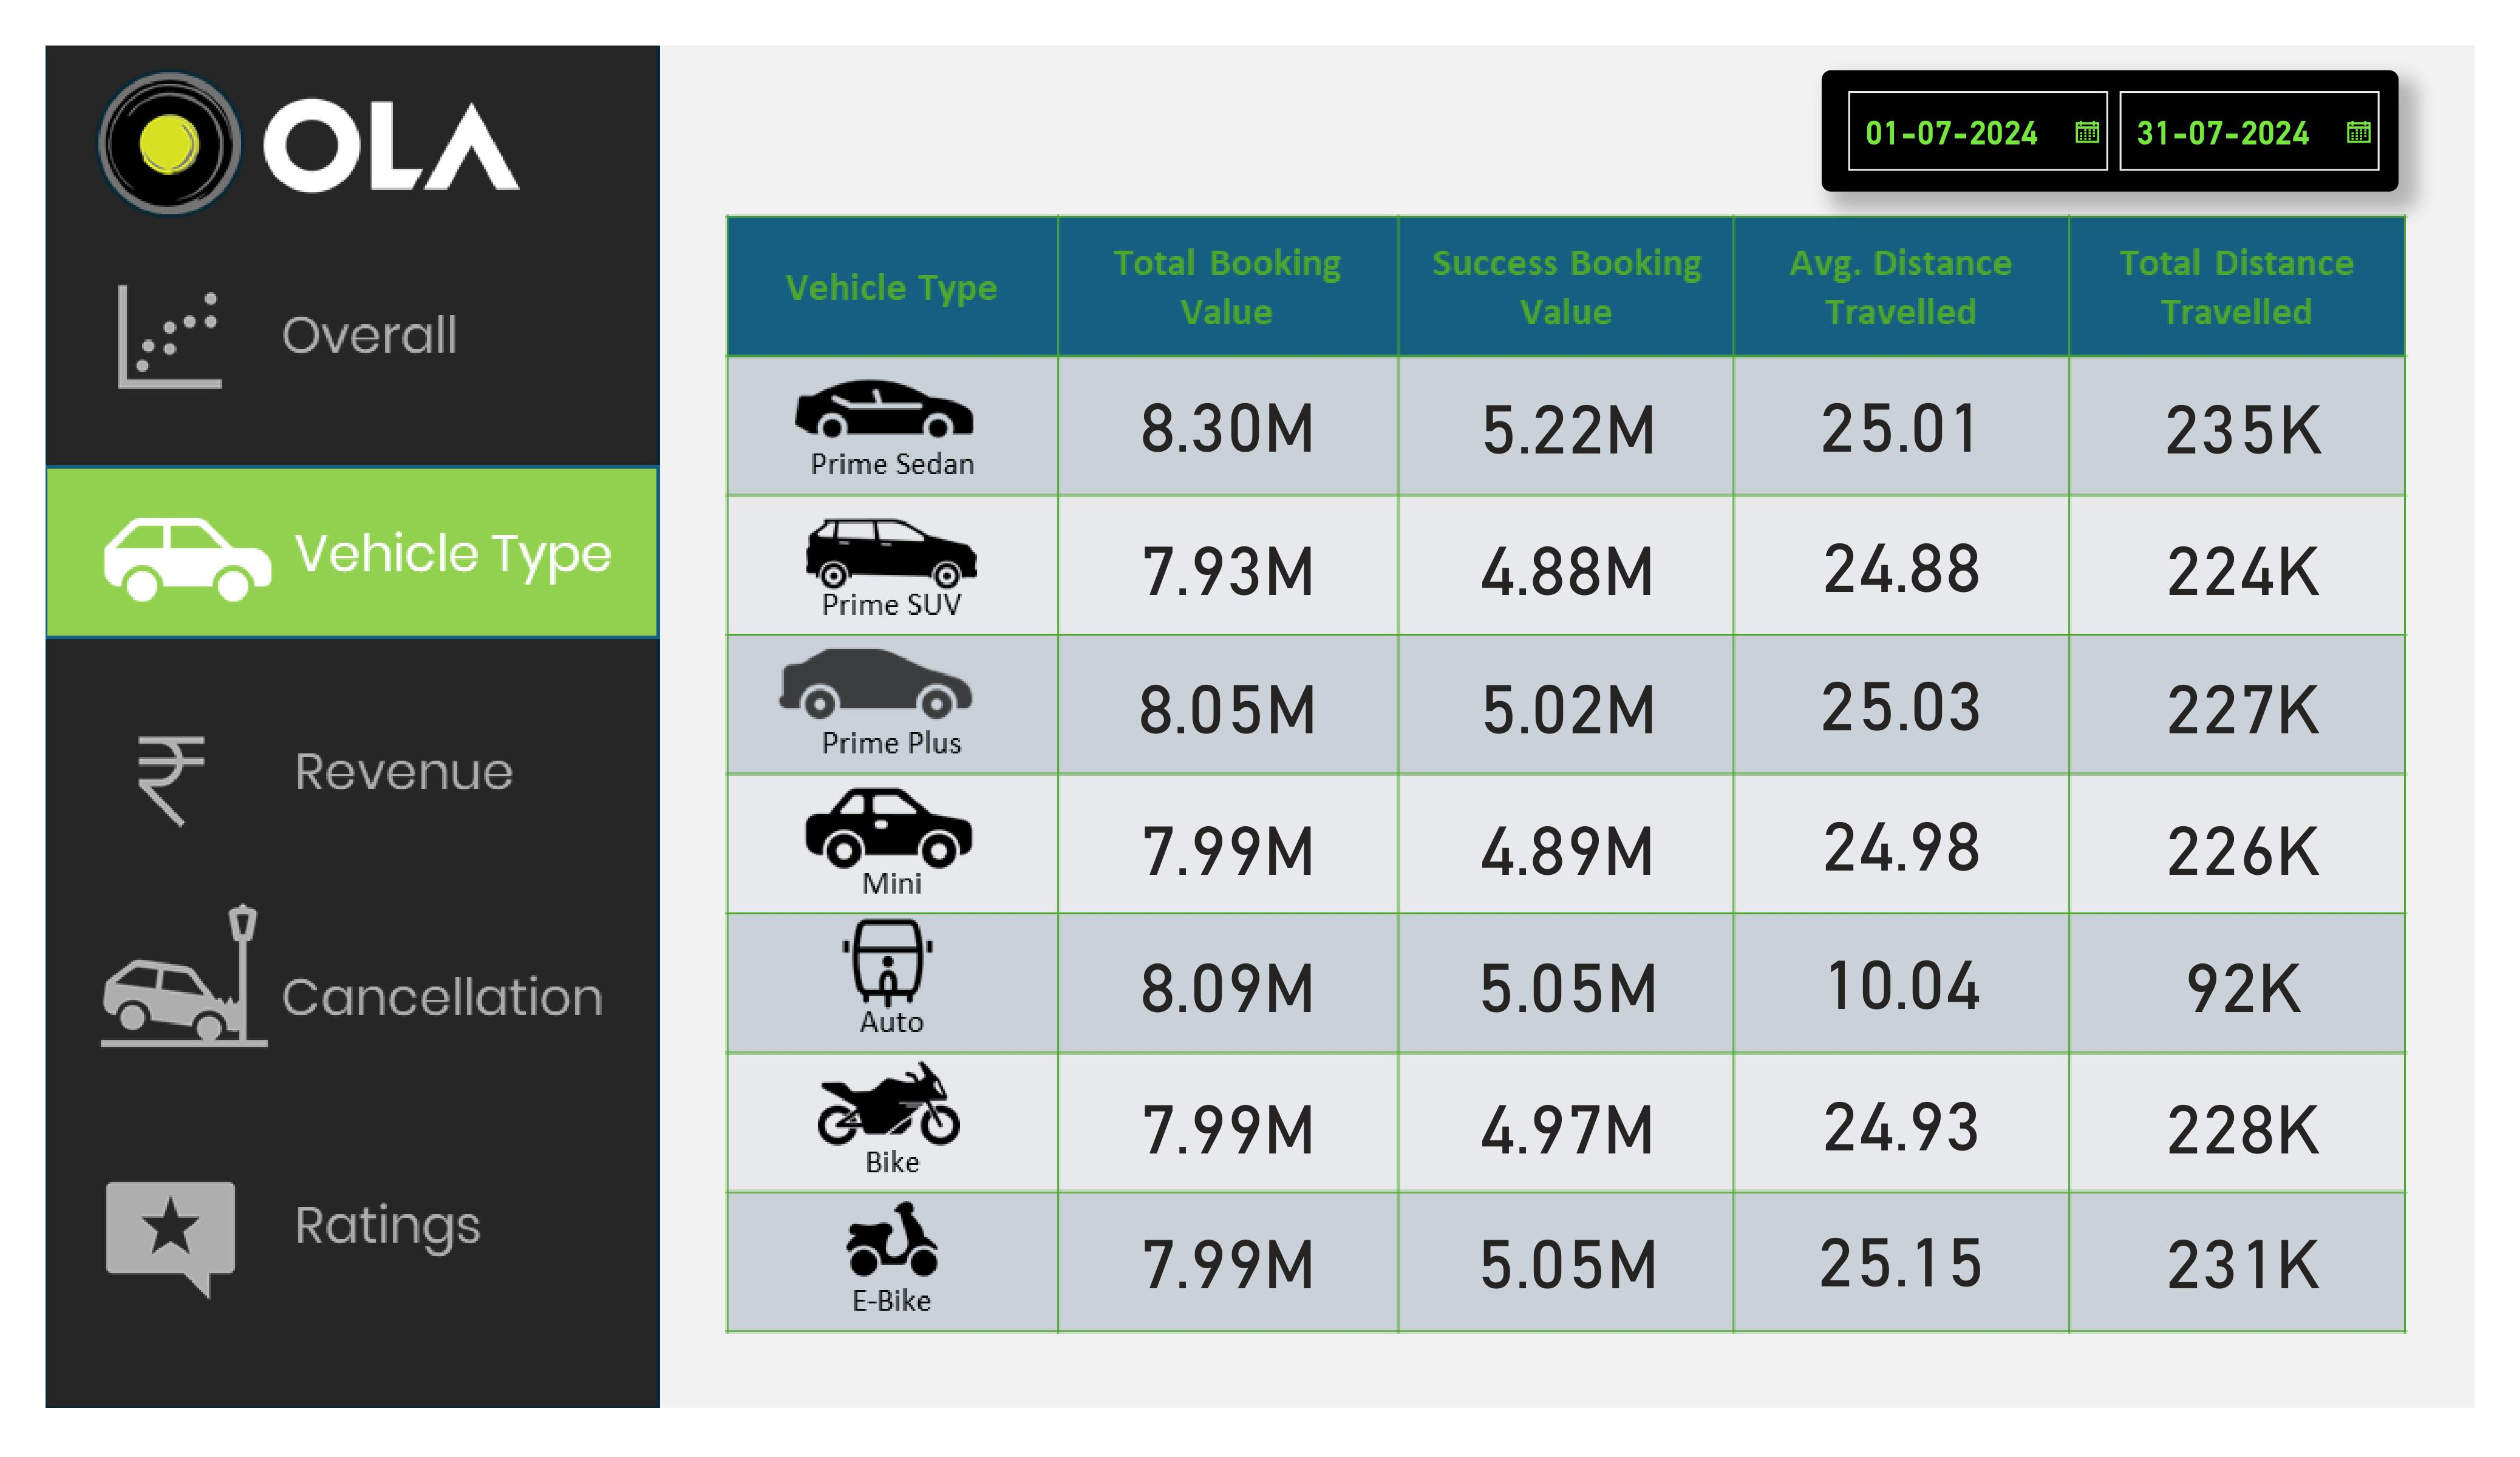

What the dashboard file says about the page in this screenshot:
{"tool":"powerbi","page":{"name":"Vehicle Type ","canvas":[1280,720],"ordinal":1},"visuals":[{"type":"actionButton","box":[0,342.9,325.7,90],"z":0},{"type":"actionButton","box":[0,445.7,325.7,90],"z":1000},{"type":"actionButton","box":[0,581.4,325.7,90],"z":2000},{"type":"actionButton","box":[0,108.6,325.7,90],"z":3000},{"type":"card","fields":{"Values":["Sum(public ola_bookings.booking_value)"]},"box":[537.1,165.7,171.4,64.3],"z":4000},{"type":"card","fields":{"Values":["Sum(public ola_bookings.booking_value)"]},"box":[537.1,241.4,171.4,64.3],"z":5000},{"type":"card","fields":{"Values":["Sum(public ola_bookings.booking_value)"]},"box":[537.1,314.3,171.4,64.3],"z":6000},{"type":"card","fields":{"Values":["Sum(public ola_bookings.booking_value)"]},"box":[537.1,388.6,171.4,64.3],"z":7000},{"type":"card","fields":{"Values":["Sum(public ola_bookings.booking_value)"]},"box":[537.1,461.4,171.4,64.3],"z":8000},{"type":"card","fields":{"Values":["Sum(public ola_bookings.booking_value)"]},"box":[537.1,535.7,171.4,64.3],"z":9000},{"type":"card","fields":{"Values":["Sum(public ola_bookings.booking_value)"]},"box":[537.1,607.1,171.4,64.3],"z":10000},{"type":"card","fields":{"Values":["Sum(public ola_bookings.booking_value)"]},"box":[720,167.1,164.3,64.3],"z":11000},{"type":"card","fields":{"Values":["Sum(public ola_bookings.booking_value)"]},"box":[720,241.4,164.3,64.3],"z":12000},{"type":"card","fields":{"Values":["Sum(public ola_bookings.booking_value)"]},"box":[720,314.3,164.3,64.3],"z":13000},{"type":"card","fields":{"Values":["Sum(public ola_bookings.booking_value)"]},"box":[720,388.6,164.3,64.3],"z":14000},{"type":"card","fields":{"Values":["Sum(public ola_bookings.booking_value)"]},"box":[720,461.4,164.3,64.3],"z":15000},{"type":"card","fields":{"Values":["Sum(public ola_bookings.booking_value)"]},"box":[720,535.7,164.3,64.3],"z":16000},{"type":"card","fields":{"Values":["Sum(public ola_bookings.booking_value)"]},"box":[720,607.1,164.3,64.3],"z":17000},{"type":"card","fields":{"Values":["Avg(public ola_bookings.ride_distance)"]},"box":[895.7,165.7,164.3,64.3],"z":18000},{"type":"card","fields":{"Values":["Avg(public ola_bookings.ride_distance)"]},"box":[895.7,240,164.3,64.3],"z":19000},{"type":"card","fields":{"Values":["Avg(public ola_bookings.ride_distance)"]},"box":[895.7,312.9,164.3,64.3],"z":20000},{"type":"card","fields":{"Values":["Avg(public ola_bookings.ride_distance)"]},"box":[895.7,387.1,164.3,64.3],"z":21000},{"type":"card","fields":{"Values":["Avg(public ola_bookings.ride_distance)"]},"box":[895.7,460,164.3,64.3],"z":22000},{"type":"card","fields":{"Values":["Avg(public ola_bookings.ride_distance)"]},"box":[895.7,534.3,164.3,64.3],"z":23000},{"type":"card","fields":{"Values":["Avg(public ola_bookings.ride_distance)"]},"box":[895.7,605.7,164.3,64.3],"z":24000},{"type":"card","fields":{"Values":["Sum(public ola_bookings.ride_distance)"]},"box":[1075.7,167.1,164.3,64.3],"z":25000},{"type":"card","fields":{"Values":["Sum(public ola_bookings.ride_distance)"]},"box":[1075.7,241.4,164.3,64.3],"z":26000},{"type":"card","fields":{"Values":["Sum(public ola_bookings.ride_distance)"]},"box":[1075.7,314.3,164.3,64.3],"z":27000},{"type":"card","fields":{"Values":["Sum(public ola_bookings.ride_distance)"]},"box":[1075.7,388.6,164.3,64.3],"z":28000},{"type":"card","fields":{"Values":["Sum(public ola_bookings.ride_distance)"]},"box":[1075.7,461.4,164.3,64.3],"z":29000},{"type":"card","fields":{"Values":["Sum(public ola_bookings.ride_distance)"]},"box":[1075.7,535.7,164.3,64.3],"z":30000},{"type":"card","fields":{"Values":["Sum(public ola_bookings.ride_distance)"]},"box":[1075.7,607.1,164.3,64.3],"z":31000},{"type":"slicer","title":"Date","fields":{"Values":["public ola_bookings.date"]},"box":[935.7,12.9,304.3,64.3],"z":32000}]}

Visuals, with their boxes on the page's 1280x720 design canvas (x1, y1, x2, y2). These are canvas units, not pixel positions in the 2520x1457 screenshot, which may show the page scaled, cropped or inside an application window:
actionButton: <box>0,343,326,433</box>
actionButton: <box>0,446,326,536</box>
actionButton: <box>0,581,326,671</box>
actionButton: <box>0,109,326,199</box>
card - Sum(public ola_bookings.booking_value): <box>537,166,708,230</box>
card - Sum(public ola_bookings.booking_value): <box>537,241,708,306</box>
card - Sum(public ola_bookings.booking_value): <box>537,314,708,379</box>
card - Sum(public ola_bookings.booking_value): <box>537,389,708,453</box>
card - Sum(public ola_bookings.booking_value): <box>537,461,708,526</box>
card - Sum(public ola_bookings.booking_value): <box>537,536,708,600</box>
card - Sum(public ola_bookings.booking_value): <box>537,607,708,671</box>
card - Sum(public ola_bookings.booking_value): <box>720,167,884,231</box>
card - Sum(public ola_bookings.booking_value): <box>720,241,884,306</box>
card - Sum(public ola_bookings.booking_value): <box>720,314,884,379</box>
card - Sum(public ola_bookings.booking_value): <box>720,389,884,453</box>
card - Sum(public ola_bookings.booking_value): <box>720,461,884,526</box>
card - Sum(public ola_bookings.booking_value): <box>720,536,884,600</box>
card - Sum(public ola_bookings.booking_value): <box>720,607,884,671</box>
card - Avg(public ola_bookings.ride_distance): <box>896,166,1060,230</box>
card - Avg(public ola_bookings.ride_distance): <box>896,240,1060,304</box>
card - Avg(public ola_bookings.ride_distance): <box>896,313,1060,377</box>
card - Avg(public ola_bookings.ride_distance): <box>896,387,1060,451</box>
card - Avg(public ola_bookings.ride_distance): <box>896,460,1060,524</box>
card - Avg(public ola_bookings.ride_distance): <box>896,534,1060,599</box>
card - Avg(public ola_bookings.ride_distance): <box>896,606,1060,670</box>
card - Sum(public ola_bookings.ride_distance): <box>1076,167,1240,231</box>
card - Sum(public ola_bookings.ride_distance): <box>1076,241,1240,306</box>
card - Sum(public ola_bookings.ride_distance): <box>1076,314,1240,379</box>
card - Sum(public ola_bookings.ride_distance): <box>1076,389,1240,453</box>
card - Sum(public ola_bookings.ride_distance): <box>1076,461,1240,526</box>
card - Sum(public ola_bookings.ride_distance): <box>1076,536,1240,600</box>
card - Sum(public ola_bookings.ride_distance): <box>1076,607,1240,671</box>
"Date" slicer: <box>936,13,1240,77</box>
